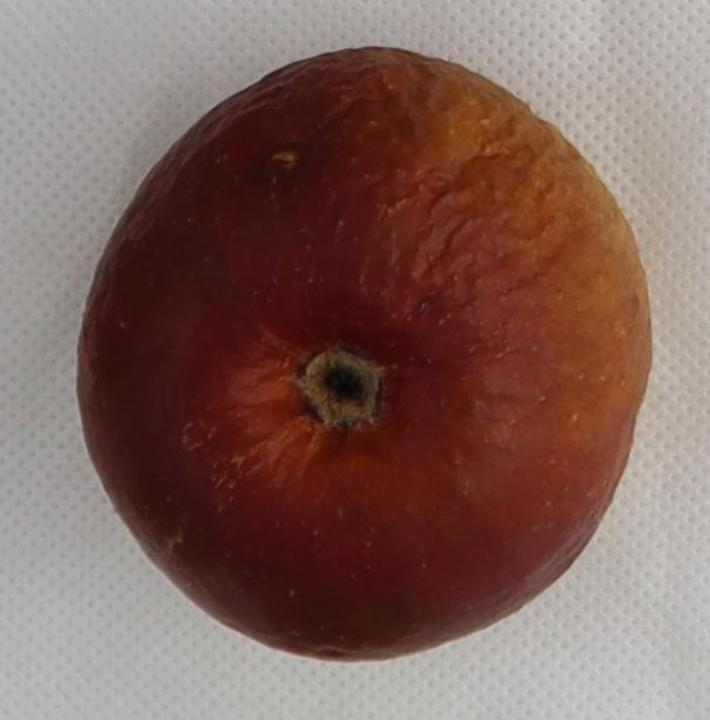apple: (77, 48, 651, 659)
rot_mold_decay: (77, 48, 651, 659)
